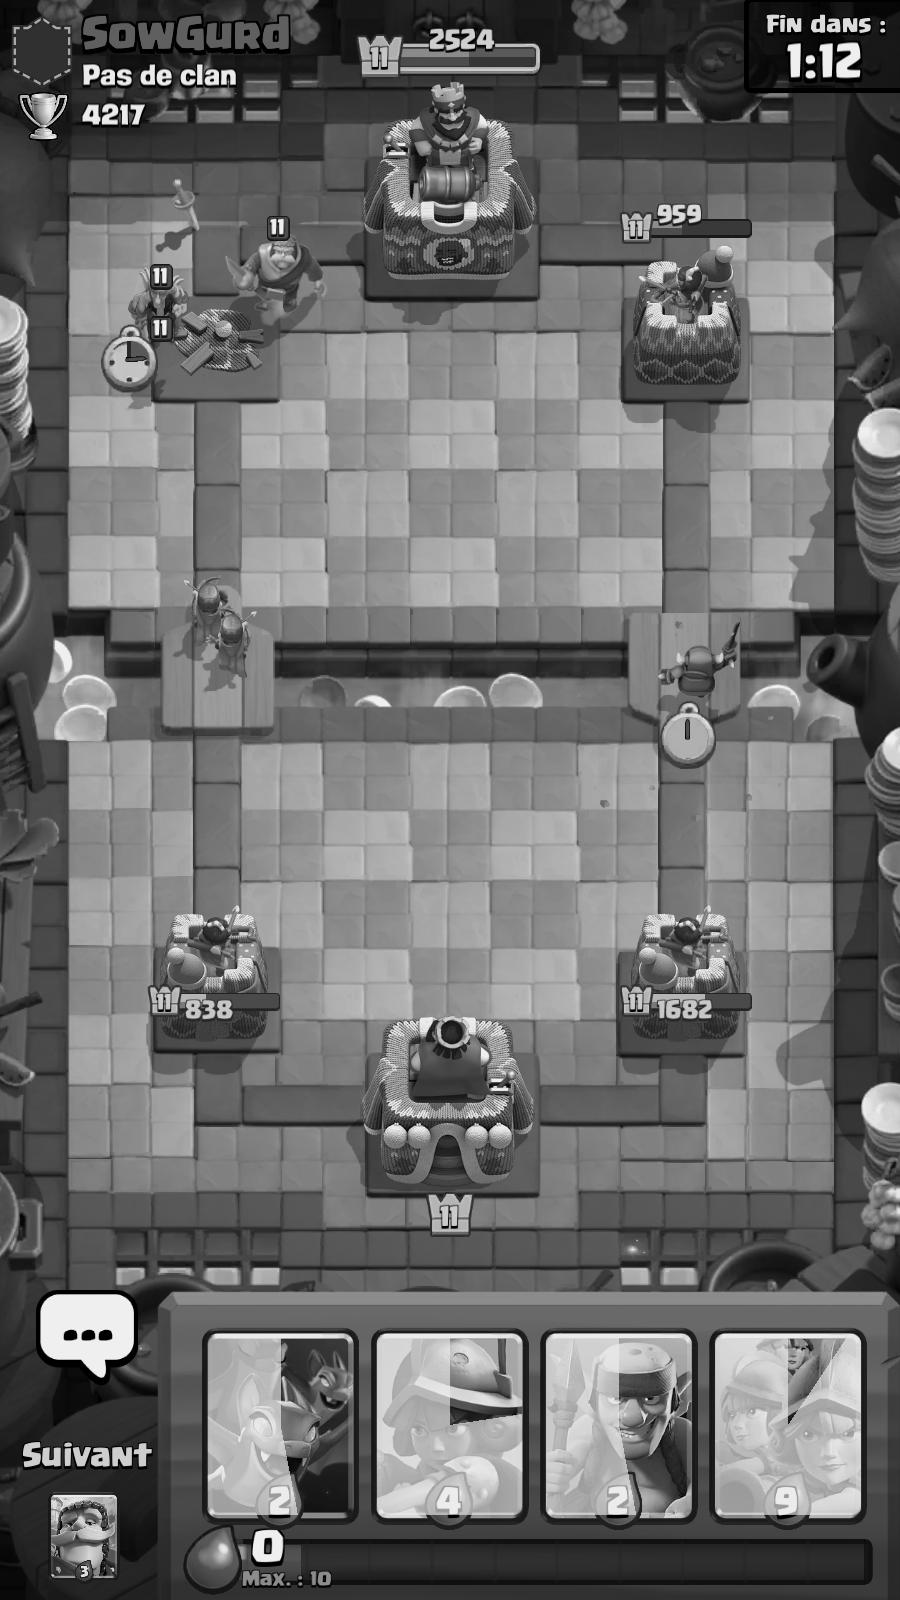archere: (216, 605, 262, 677), (180, 576, 227, 638)
chevalier: (227, 214, 327, 332)
gobelin: (135, 265, 188, 337), (142, 270, 191, 335)
mini_PEKKA: (663, 619, 744, 705)
